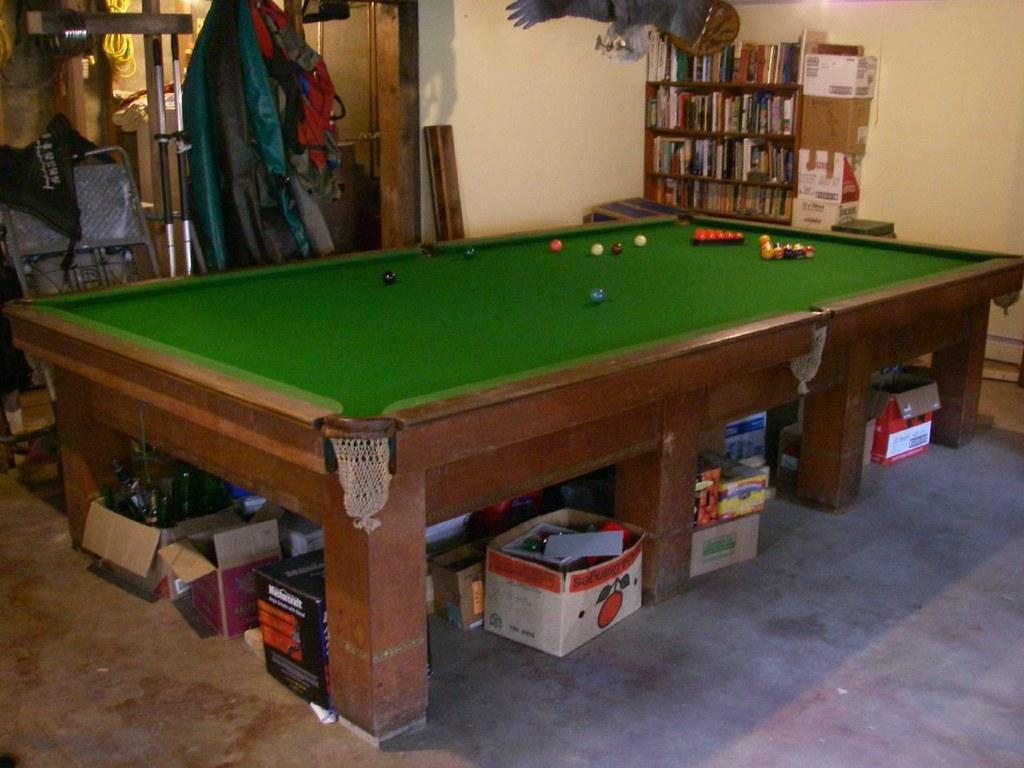table: (4, 209, 1023, 749)
